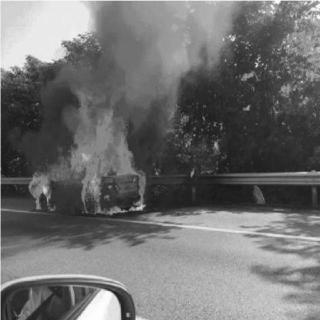Fire: (32, 89, 148, 228)
